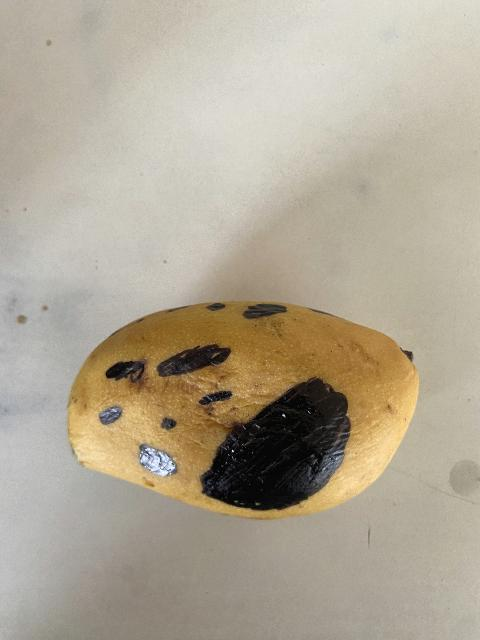Mango Overripe: (28, 260, 442, 542)
